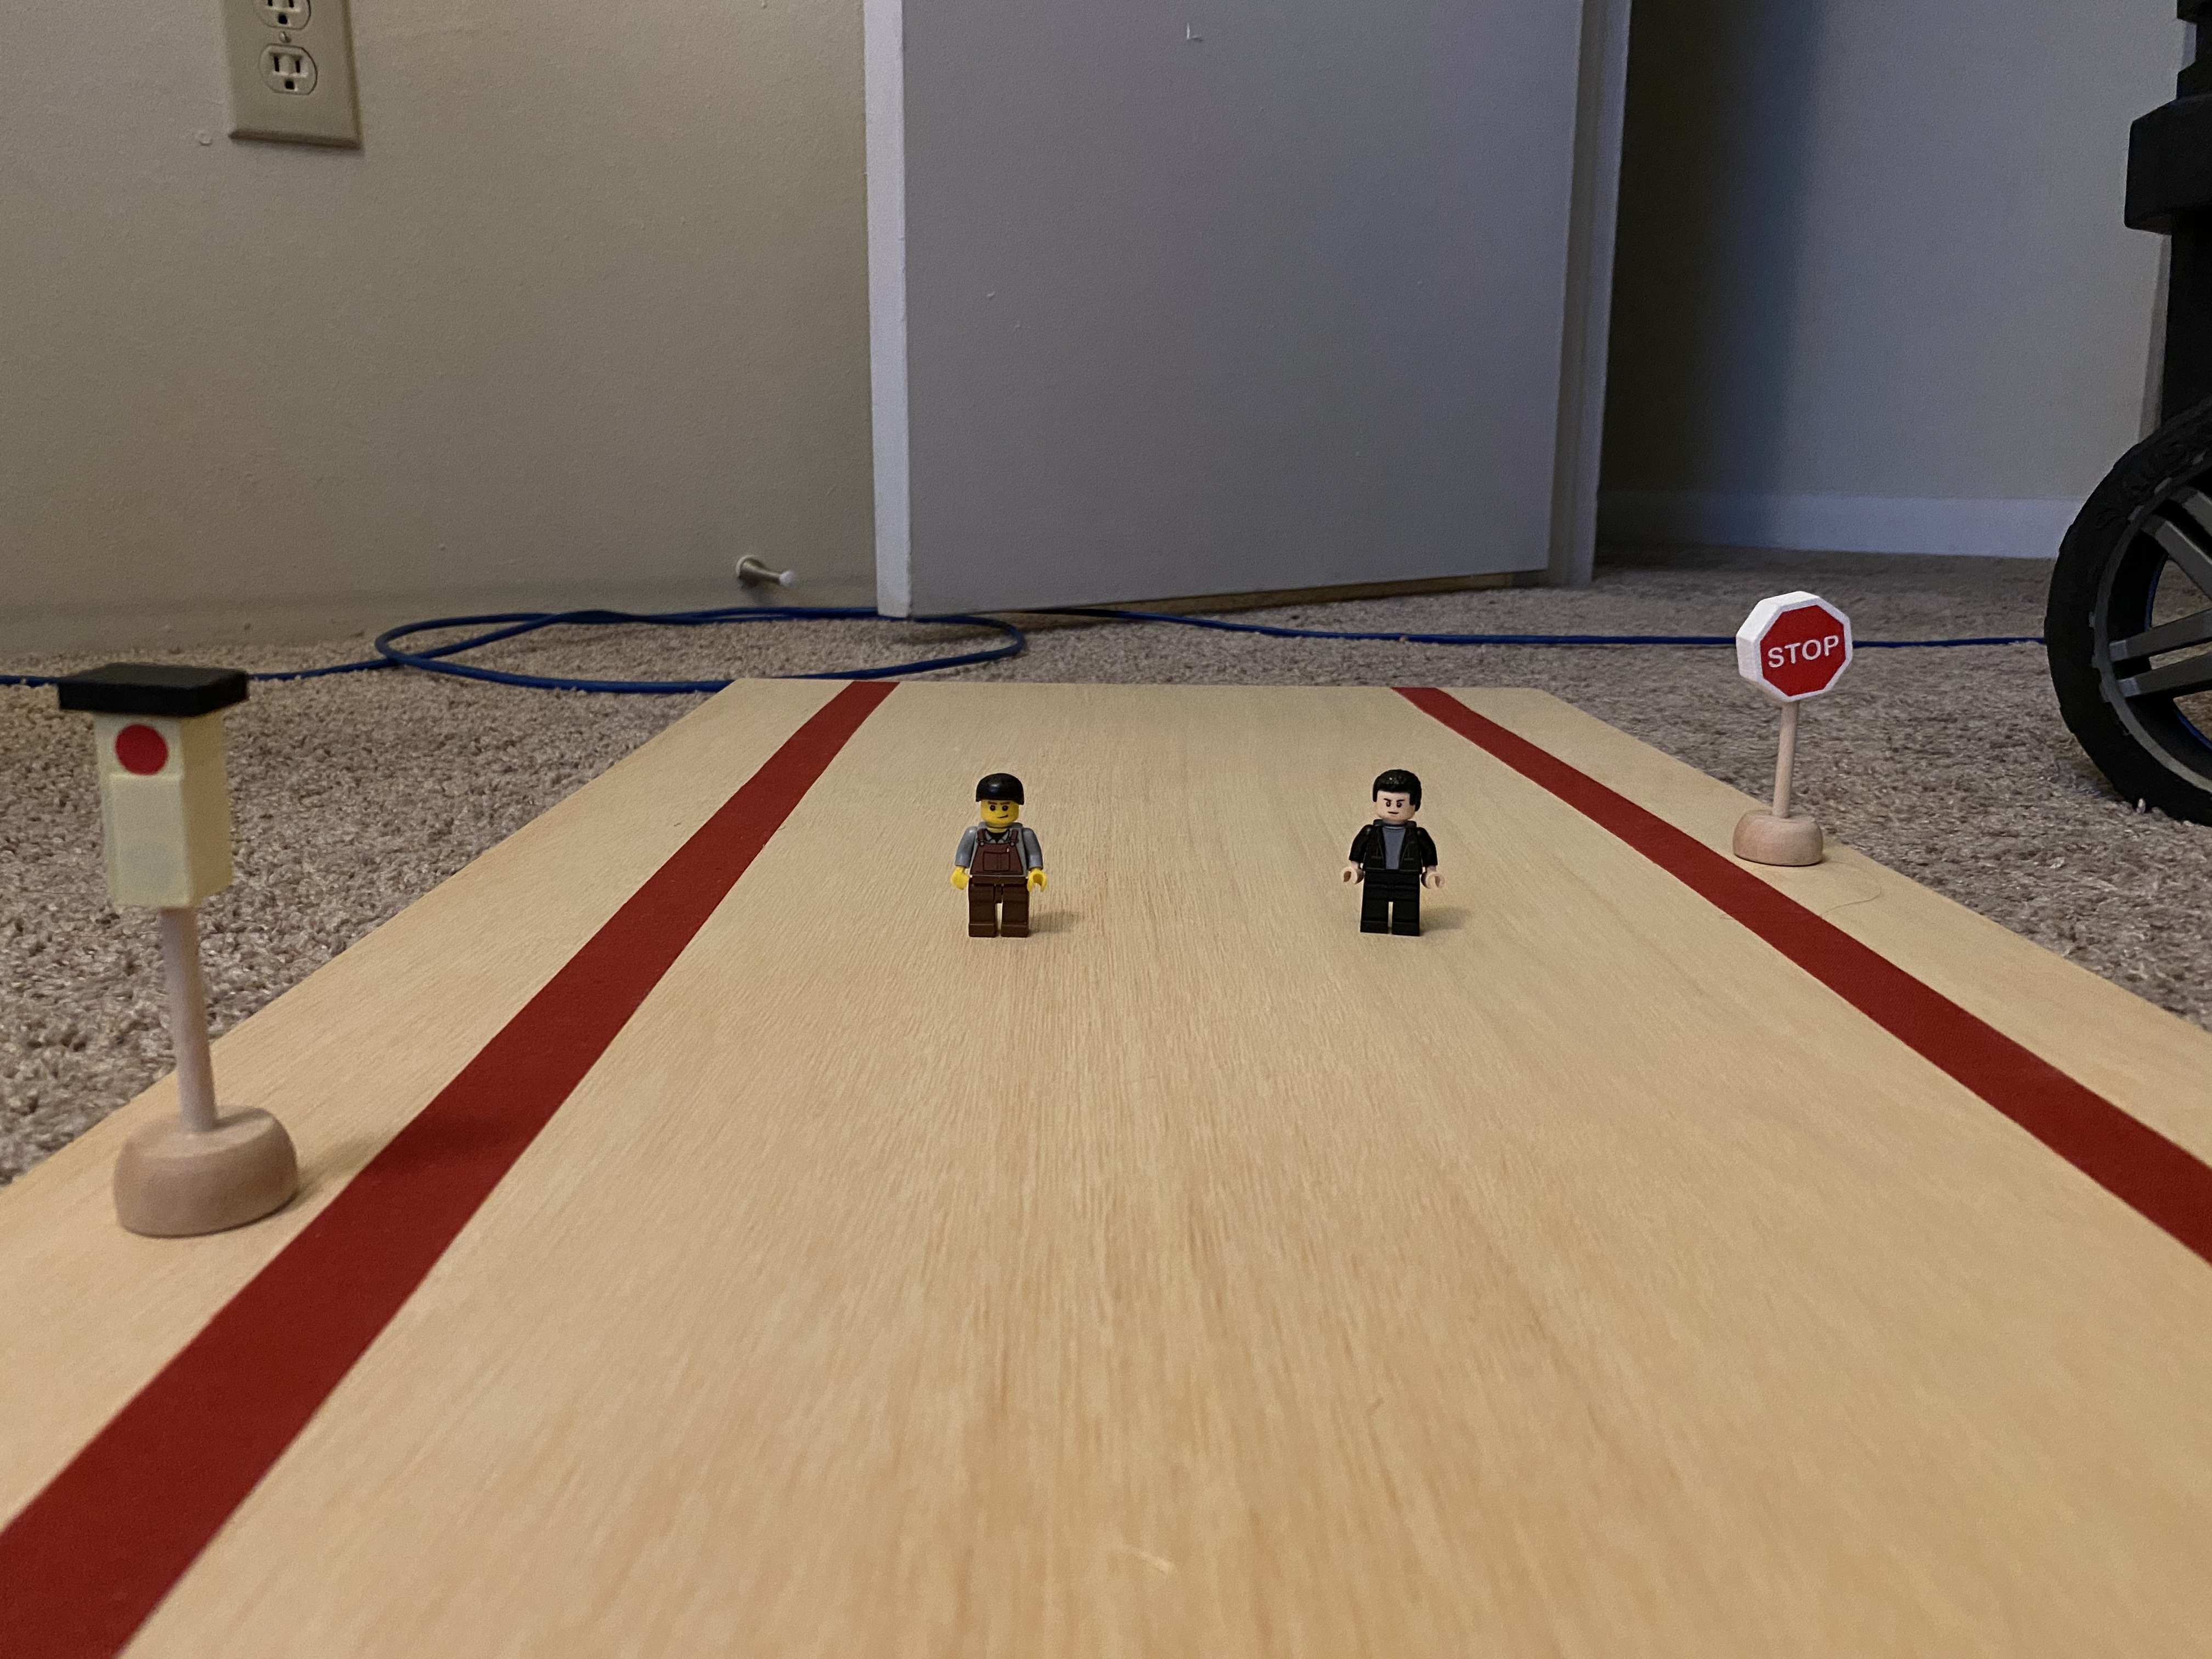Person: (923, 756, 1079, 967), (1321, 747, 1467, 957)
Red Traffic Light: (40, 637, 278, 948)
Stop Sign: (1714, 573, 1874, 710)
